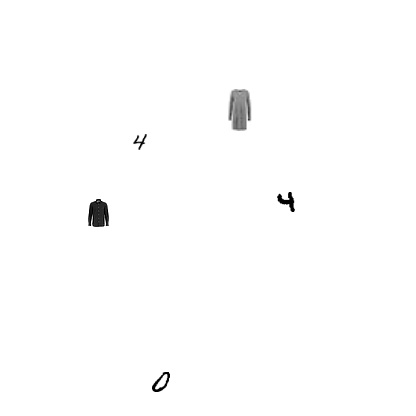0: (147, 368, 175, 396)
4: (273, 187, 301, 215), (129, 130, 151, 152)
Dress: (218, 89, 260, 131)
Shirt: (84, 199, 112, 227)
